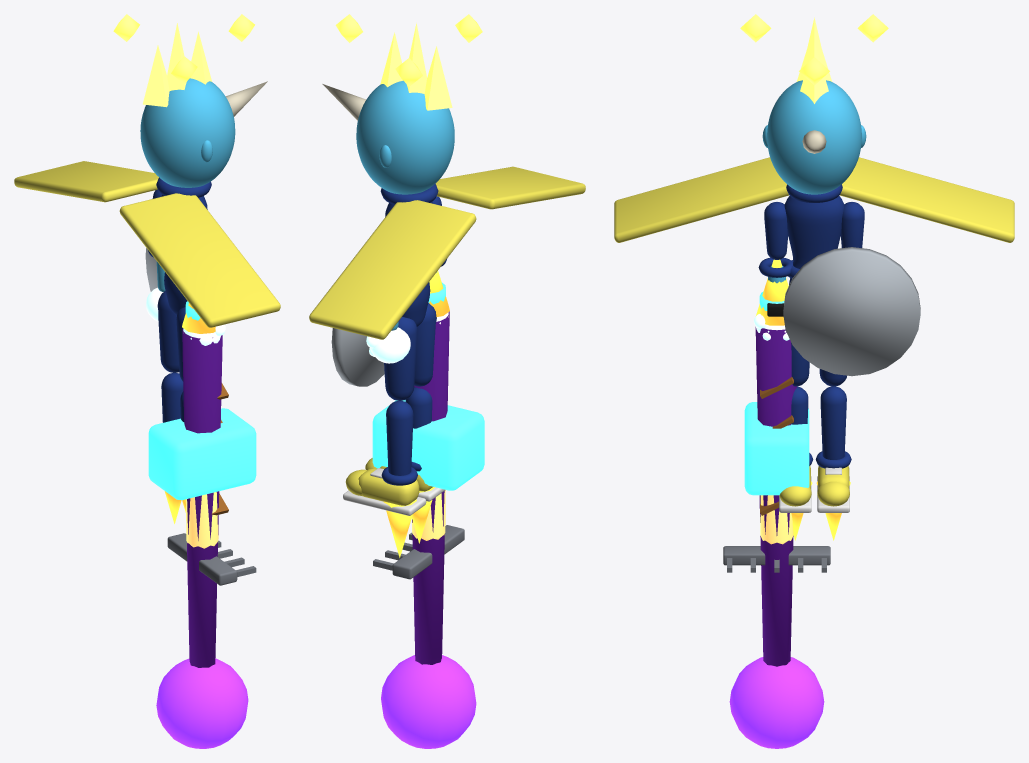
Rendered from kai-forma2.glb.
The picture shows the model from 3 angles, left to right: view 1: azimuth 30°, elevation 25°; view 2: azimuth 150°, elevation 25°; view 3: azimuth 270°, elevation 25°; orthographic projection. The views are drawn at different scales.
Visible parts, largest first — view 1: wing0, skull, hammerHead, shadowArm, shadowFist, wing1, baguette, thigh.001, rakeHead, crest2, calf.001, crest1 (+4 smaller); view 2: wing1, skull, shadowFist, hammerHead, shadowArm, wing0, prop:lid, calf.001, thigh.001, thigh, shoe.001, rakeHead (+11 smaller); view 3: prop:lid, skull, wing0, wing1, shadowArm, shadowFist, hammerHead, torso, calf.001, rakeHead, upperArm, baguette (+3 smaller).
Boxes of the visible parts, bbox=[...] form: wing0: bbox=[119, 193, 280, 327]; skull: bbox=[140, 78, 235, 187]; hammerHead: bbox=[148, 408, 256, 500]; shadowArm: bbox=[182, 328, 222, 667]; shadowFist: bbox=[156, 658, 248, 748]; wing1: bbox=[14, 161, 158, 202]; baguette: bbox=[186, 492, 218, 548]; thigh.001: bbox=[157, 291, 179, 372]; rakeHead: bbox=[167, 533, 237, 585]; crest2: bbox=[143, 45, 169, 107]; calf.001: bbox=[161, 373, 183, 422]; crest1: bbox=[167, 23, 186, 90]; wing1: bbox=[309, 200, 476, 339]; skull: bbox=[356, 80, 454, 194]; shadowFist: bbox=[381, 655, 476, 748]; hammerHead: bbox=[372, 400, 484, 490]; shadowArm: bbox=[412, 311, 449, 664]; wing0: bbox=[435, 166, 585, 209]; prop:lid: bbox=[331, 328, 384, 386]; calf.001: bbox=[386, 400, 413, 475]; thigh.001: bbox=[384, 317, 417, 400]; thigh: bbox=[414, 303, 436, 386]; shoe.001: bbox=[358, 468, 419, 505]; rakeHead: bbox=[392, 525, 464, 579]; prop:lid: bbox=[783, 247, 920, 376]; skull: bbox=[767, 80, 861, 194]; wing0: bbox=[614, 157, 788, 242]; wing1: bbox=[840, 157, 1014, 242]; shadowArm: bbox=[755, 327, 796, 666]; shadowFist: bbox=[729, 657, 824, 748]; hammerHead: bbox=[744, 402, 809, 495]; torso: bbox=[784, 196, 844, 268]; calf.001: bbox=[820, 386, 846, 459]; rakeHead: bbox=[723, 546, 830, 565]; upperArm: bbox=[764, 202, 788, 259]; baguette: bbox=[760, 495, 793, 544].
Bounding box in the file's own units: 0.8618 × 3.72 × 1.86.
